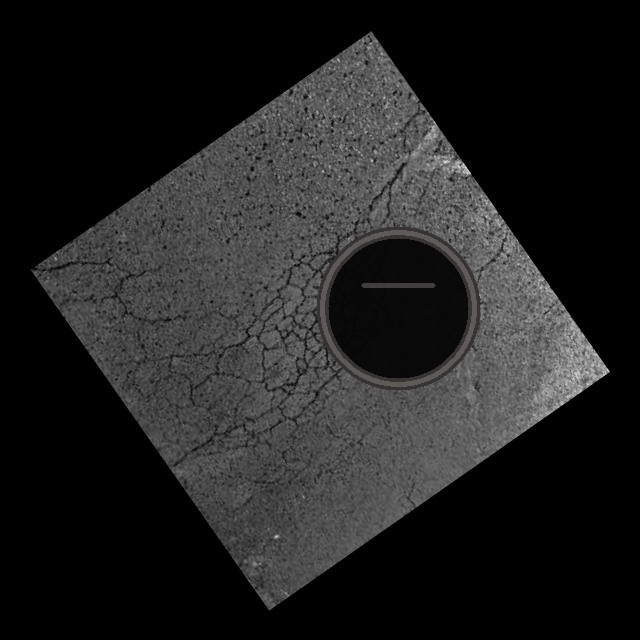open_manhole: (313, 223, 483, 393)
